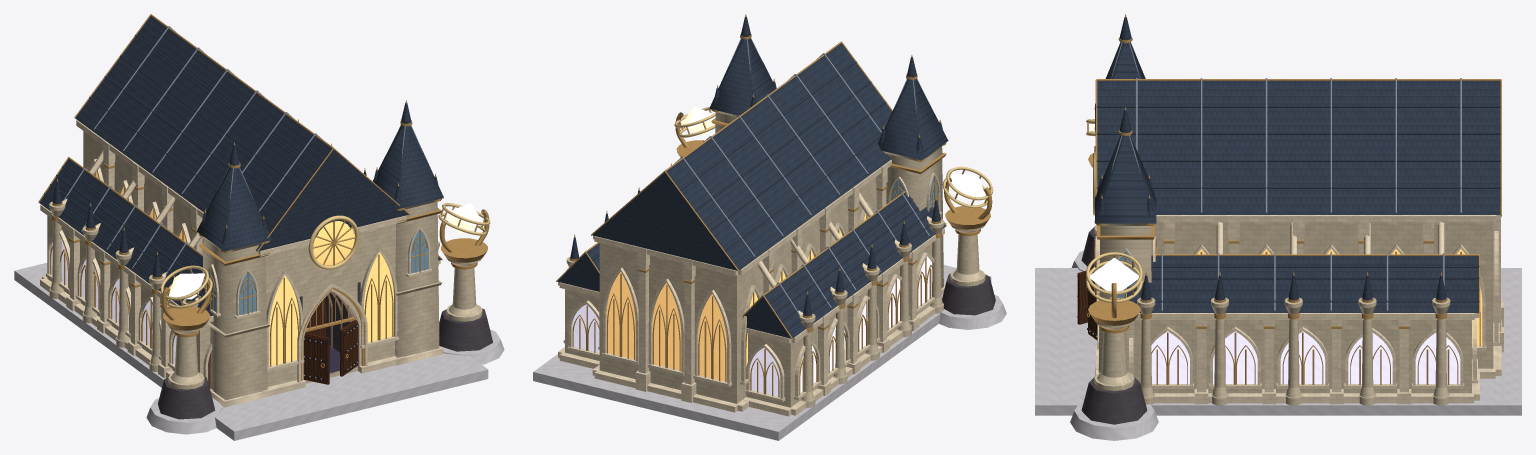
File: illumination-hall.glb
3 views of the same model, side by side, from view 1: azimuth 30°, elevation 25°; view 2: azimuth 150°, elevation 25°; view 3: azimuth 270°, elevation 25° (orthographic). The views are drawn at different scales.
Size of the model in its own units: 21.8 by 15.52 by 23.9.
Materials: 17 (17 with a texture image).
